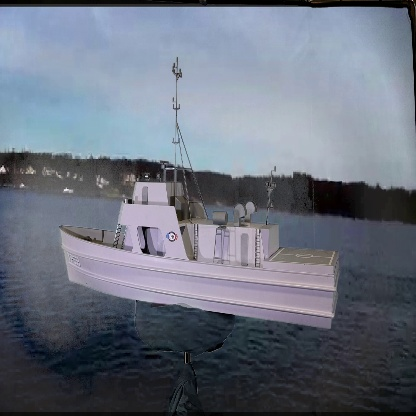YP689: (60, 54, 340, 333)
